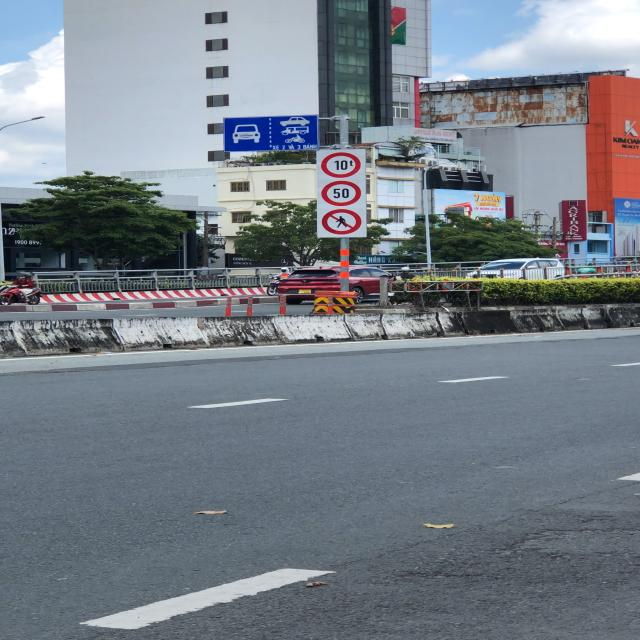Bien bao cam nguoi di bo: (320, 207, 363, 236)
Bien bao toc do toi da cho phep: (318, 180, 364, 208)
